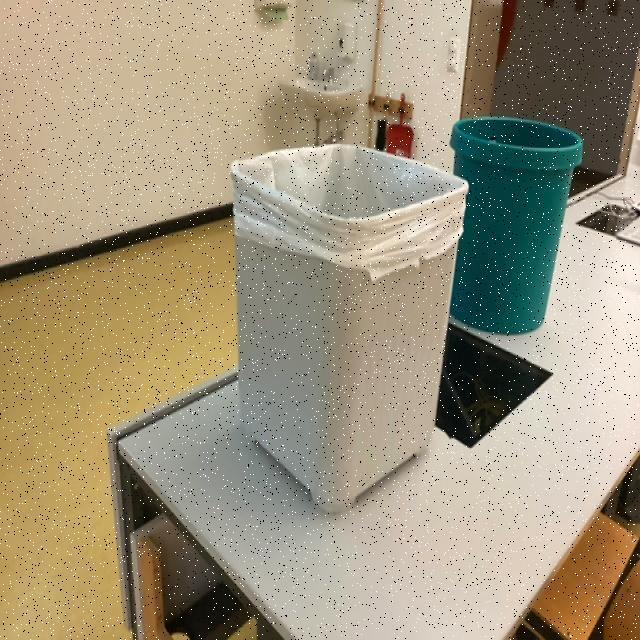garbage container: (191, 124, 473, 528), (429, 52, 620, 348)
